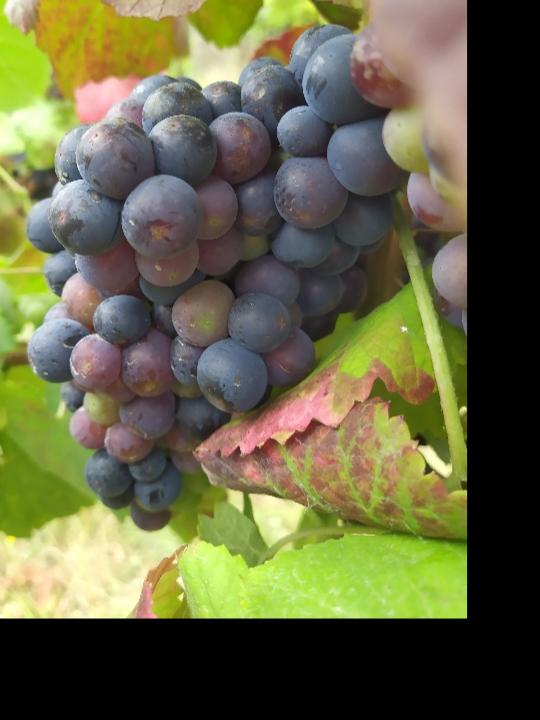grape: (17, 27, 409, 532)
